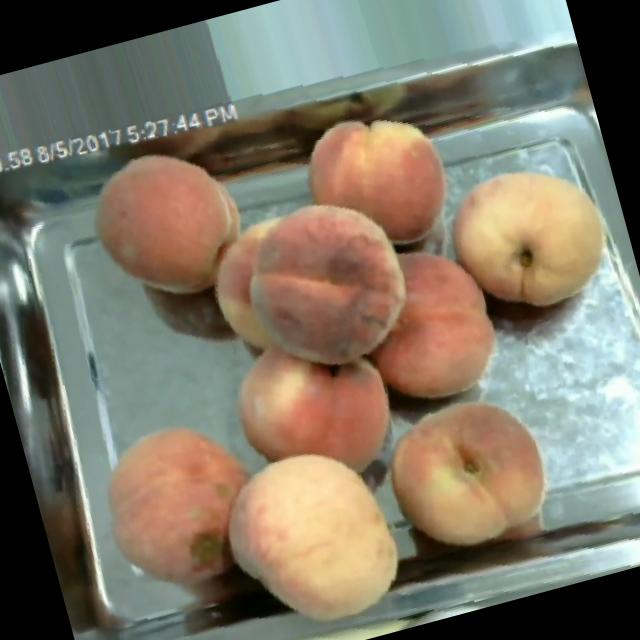Fruit: (180, 167, 432, 410), (73, 392, 290, 622), (210, 418, 432, 640), (363, 372, 569, 572), (209, 314, 419, 508), (427, 138, 632, 336), (71, 124, 264, 322), (282, 85, 473, 276), (339, 224, 521, 421)
